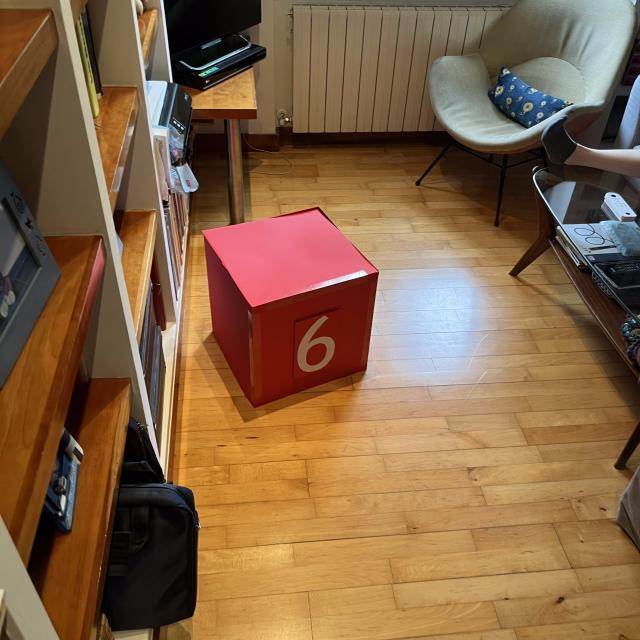box: (199, 203, 381, 408)
